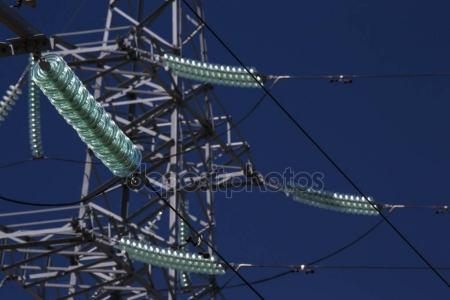isolator: (32, 54, 141, 176), (118, 238, 227, 276), (162, 53, 264, 89), (291, 182, 380, 216), (1, 85, 24, 125)
